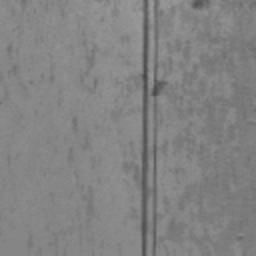Scratches: (141, 0, 149, 256), (152, 0, 159, 256)
